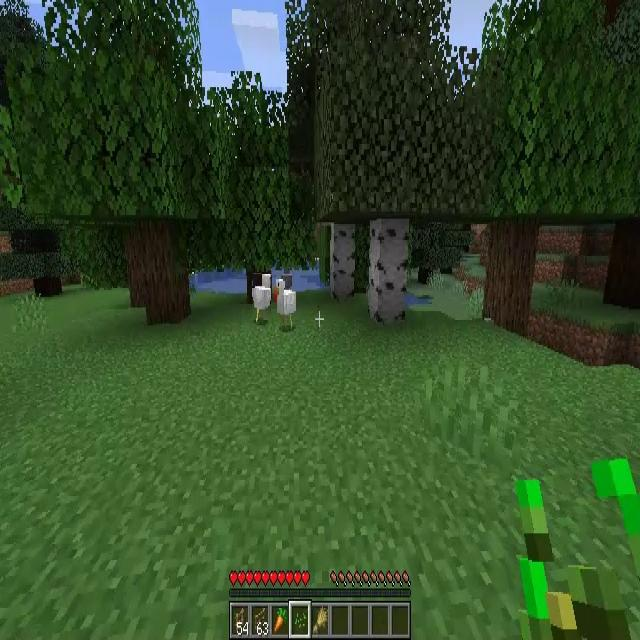duck: (276, 279, 296, 332), (253, 274, 271, 324)
